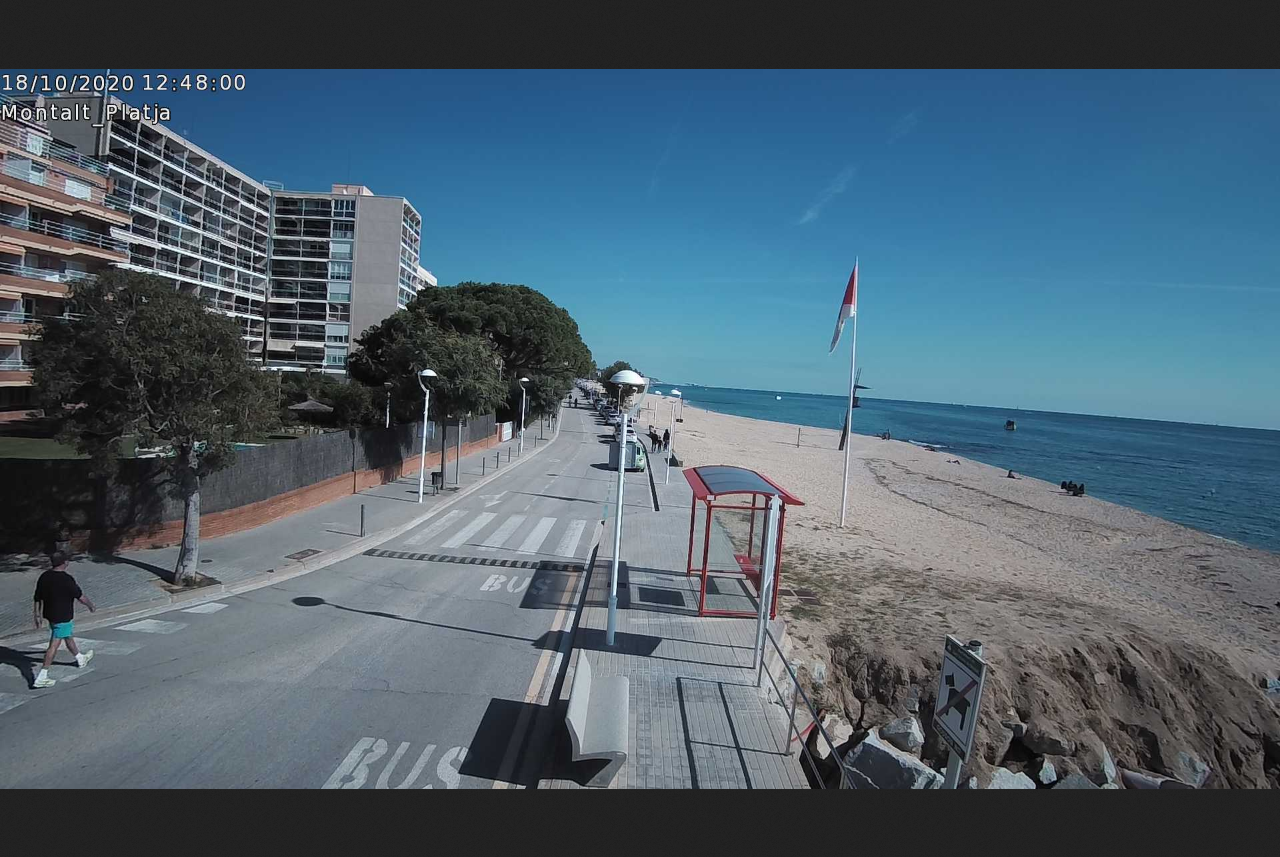maybe: (829, 261, 859, 357)
